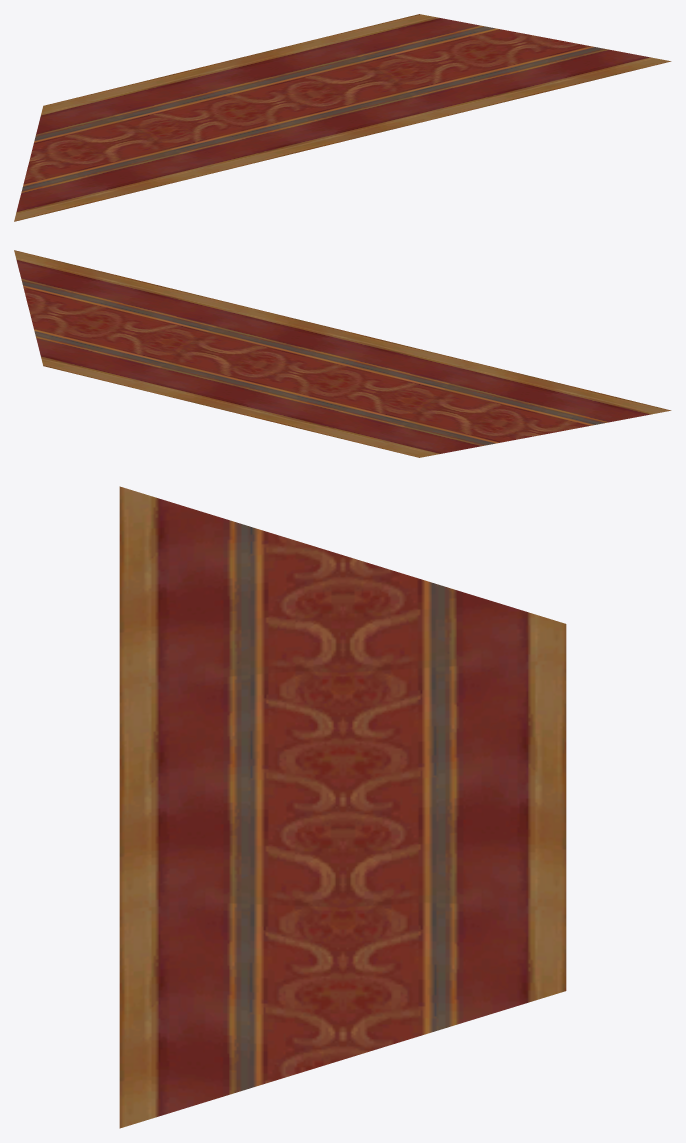
File: environment_common_ditan_001_b.FBX
3 views of the same model, one above another, from view 1: azimuth 30°, elevation 25°; view 2: azimuth 150°, elevation 25°; view 3: azimuth 270°, elevation 25° (orthographic). The views are drawn at different scales.
Visible parts, largest first — view 1: environment_common_ditan_001_b; view 2: environment_common_ditan_001_b; view 3: environment_common_ditan_001_b.
Part boxes in pixels (left/top/right/bottom): environment_common_ditan_001_b: left=14, top=14, right=671, bottom=221; environment_common_ditan_001_b: left=14, top=250, right=671, bottom=457; environment_common_ditan_001_b: left=119, top=486, right=566, bottom=1128.
Size of the model in its own units: 1785 by 6.04e-05 by 524.
